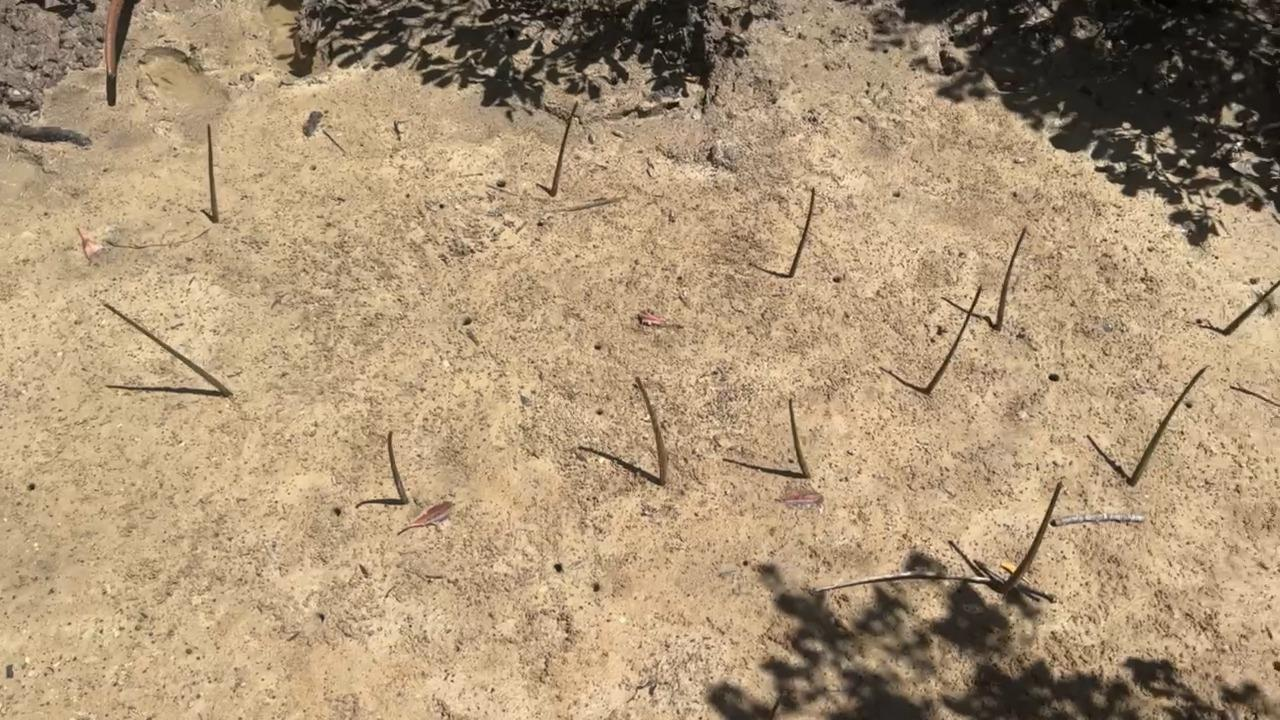Tree: (101, 299, 232, 397), (1129, 364, 1211, 487), (996, 480, 1065, 594), (924, 282, 984, 396), (633, 374, 668, 485), (993, 225, 1029, 332), (1221, 279, 1280, 337), (548, 99, 579, 197), (788, 187, 817, 278), (788, 395, 811, 478), (386, 430, 408, 505), (205, 122, 221, 223)
